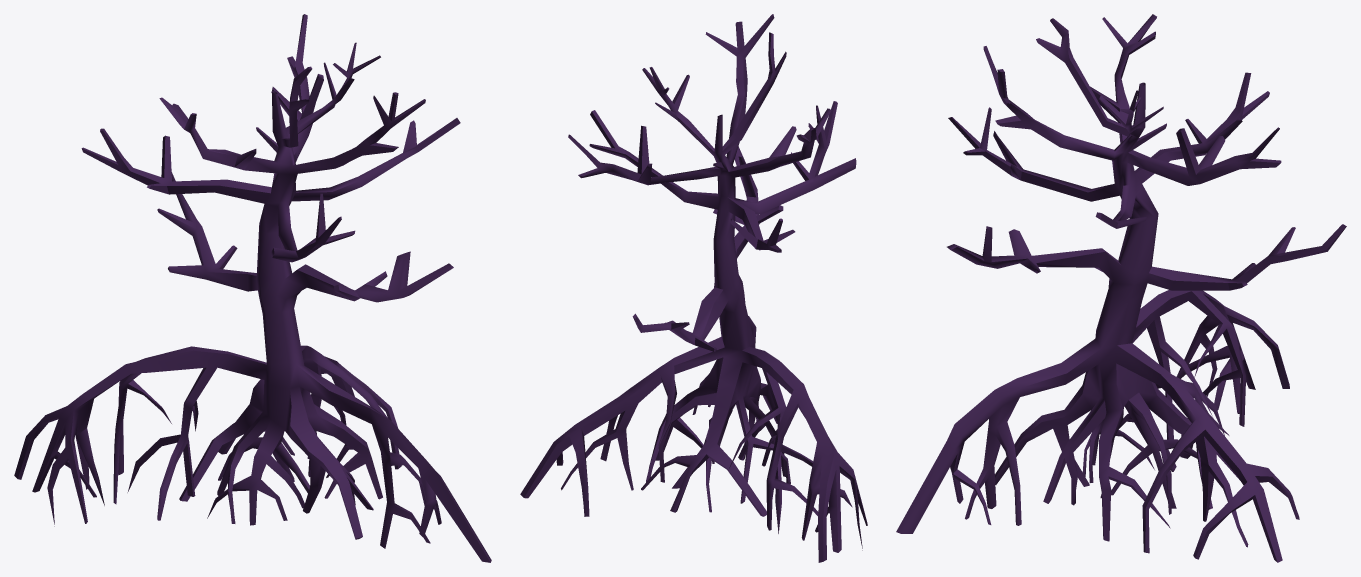
The model's file is MangroveTree.fbx.
3 views of the same model, side by side, from view 1: azimuth 30°, elevation 25°; view 2: azimuth 150°, elevation 25°; view 3: azimuth 270°, elevation 25° (orthographic). The views are drawn at different scales.
Parts seen in each view (by area): view 1: mangrovetree; view 2: mangrovetree; view 3: mangrovetree.
Boxes of the visible parts, bbox=[...] form: mangrovetree: bbox=[14, 14, 491, 562]; mangrovetree: bbox=[520, 14, 867, 562]; mangrovetree: bbox=[896, 14, 1346, 562].
Bounding box in the file's own units: 17.78 × 22.91 × 19.61.
